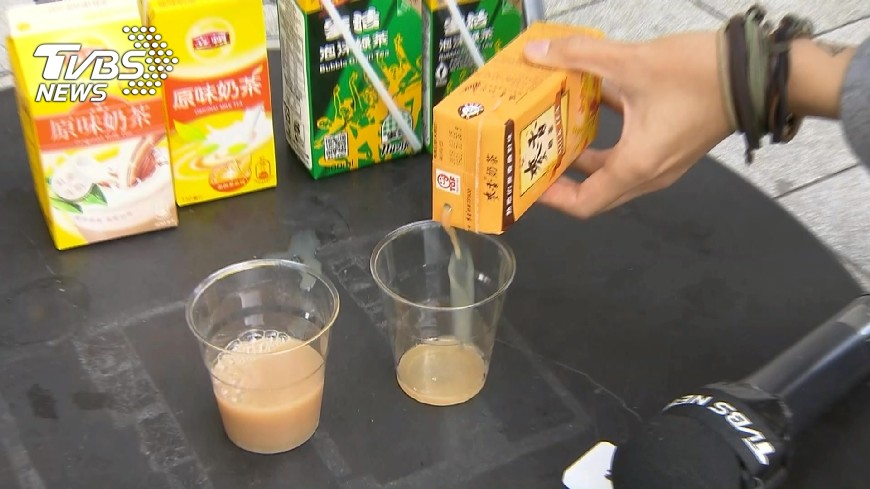milk tea: (430, 22, 605, 233)
